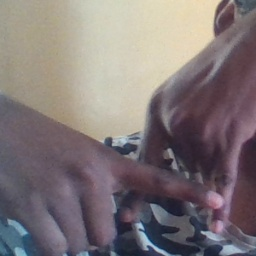H: (111, 97, 256, 245)
